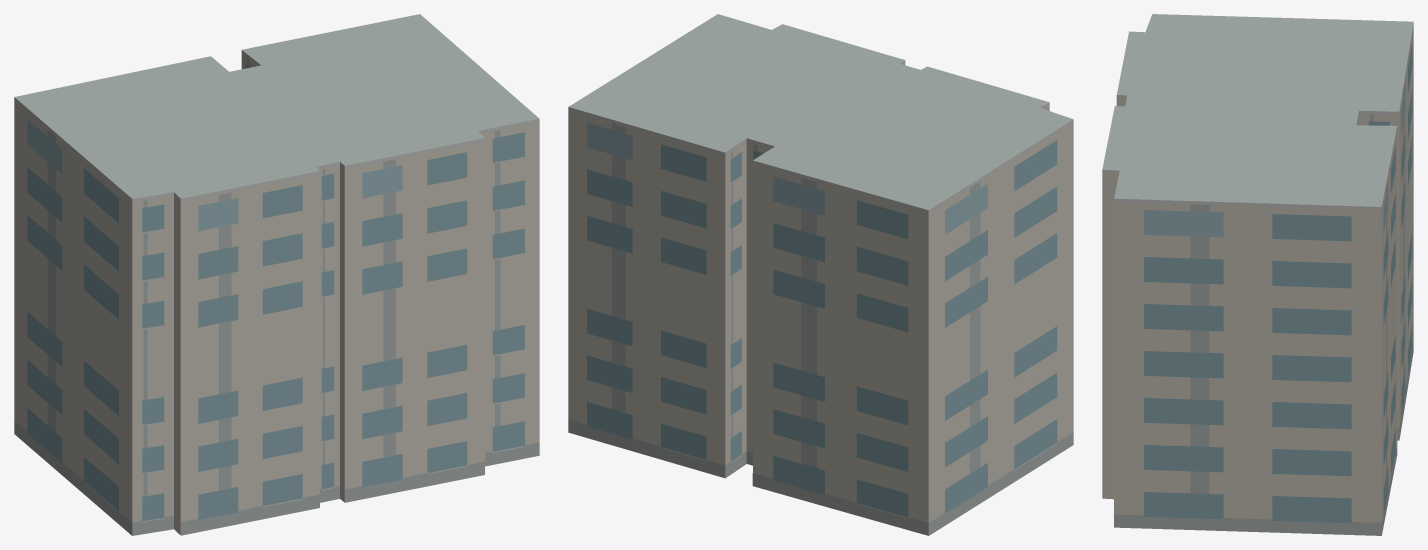
The model's file is survey-upis-32832326.glb.
The picture shows the model from 3 angles, left to right: view 1: azimuth 30°, elevation 25°; view 2: azimuth 150°, elevation 25°; view 3: azimuth 270°, elevation 25°; orthographic projection. The views are drawn at different scales.
Visible parts, largest first — view 1: survey-upis-32832326.tmp; view 2: survey-upis-32832326.tmp; view 3: survey-upis-32832326.tmp.
Part boxes in pixels (bbox=[...]): survey-upis-32832326.tmp: bbox=[14, 14, 539, 535]; survey-upis-32832326.tmp: bbox=[568, 14, 1073, 535]; survey-upis-32832326.tmp: bbox=[1102, 14, 1413, 535].
Size of the model in its own units: 28.83 by 22.9 by 19.66.
